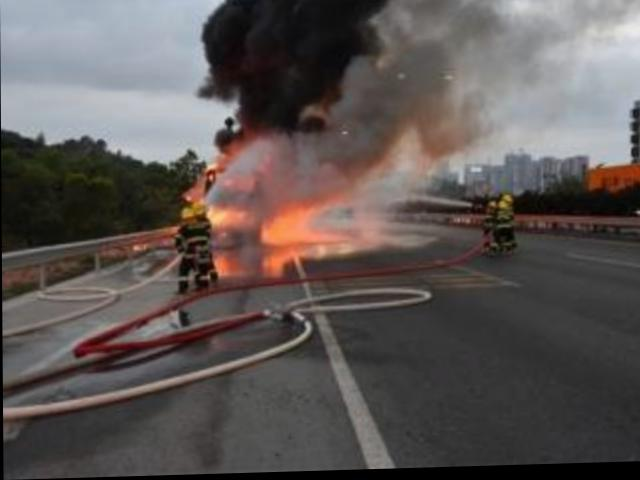fire: (209, 142, 340, 261)
